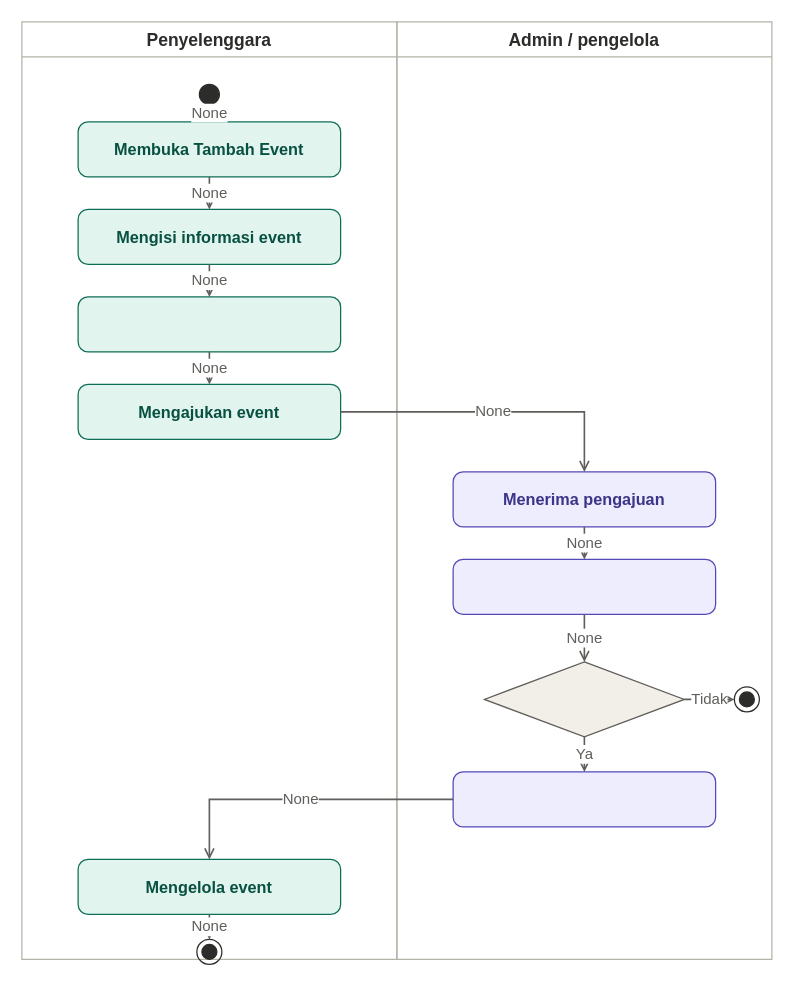
This 794x986 diagram has some shape labels left out. Here are the shapes that lost their labels. From the top down, the centre of each, then its label:
(209,324): Mengunggah poster
(584,586): Memeriksa pengajuan
(583,699): Disetujui?
(584,799): Event dipublikasikan
